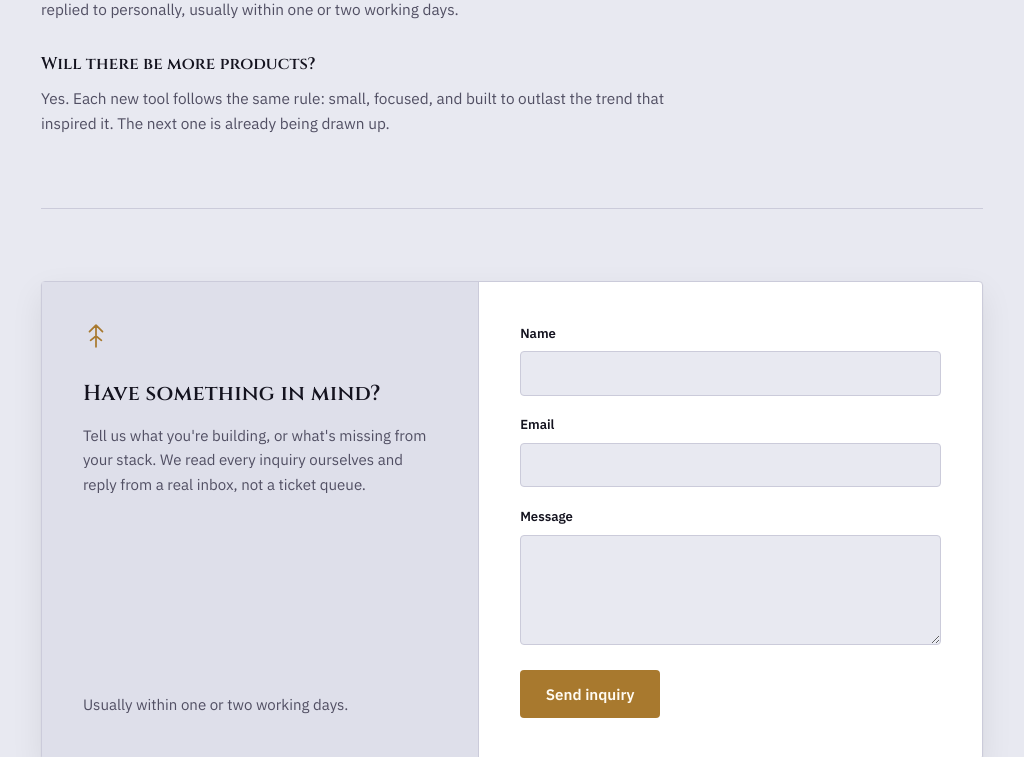
Test: pages/index › shows an error message when the inquiry endpoint fails
(page scrolled)
Step 1. Type "Jane Doe" into the field with id "name" → (731, 374), box [520, 351, 941, 396]
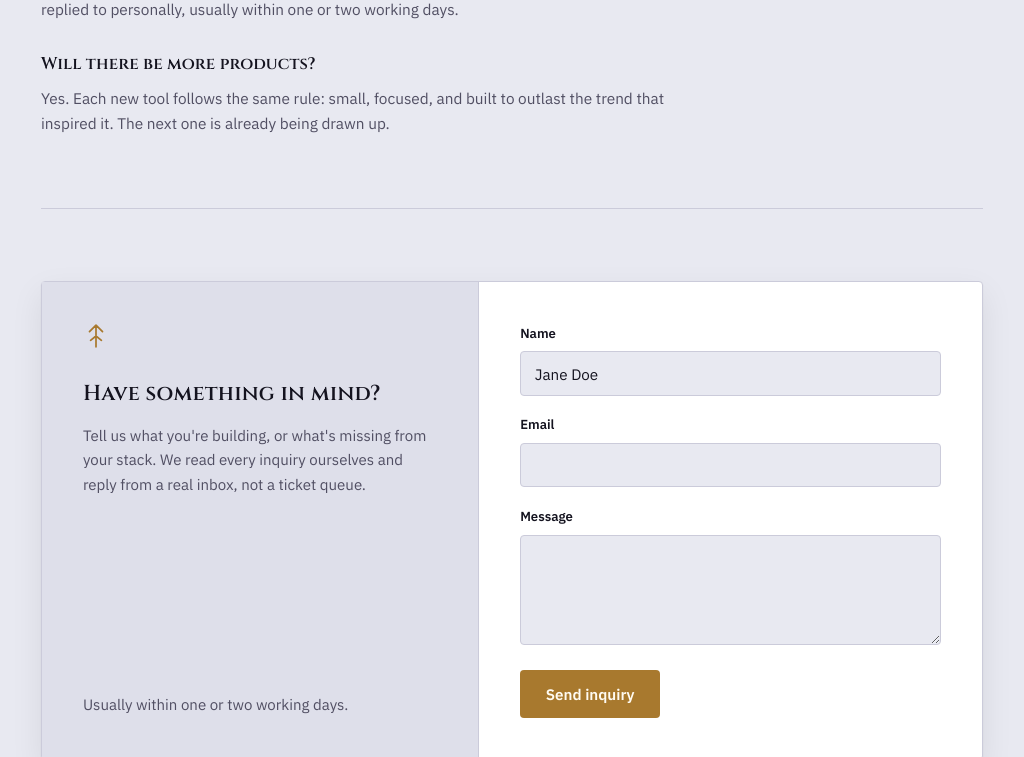
Step 2. Type "jane@example.com" into the field with id "email" → (731, 465), box [520, 443, 941, 487]
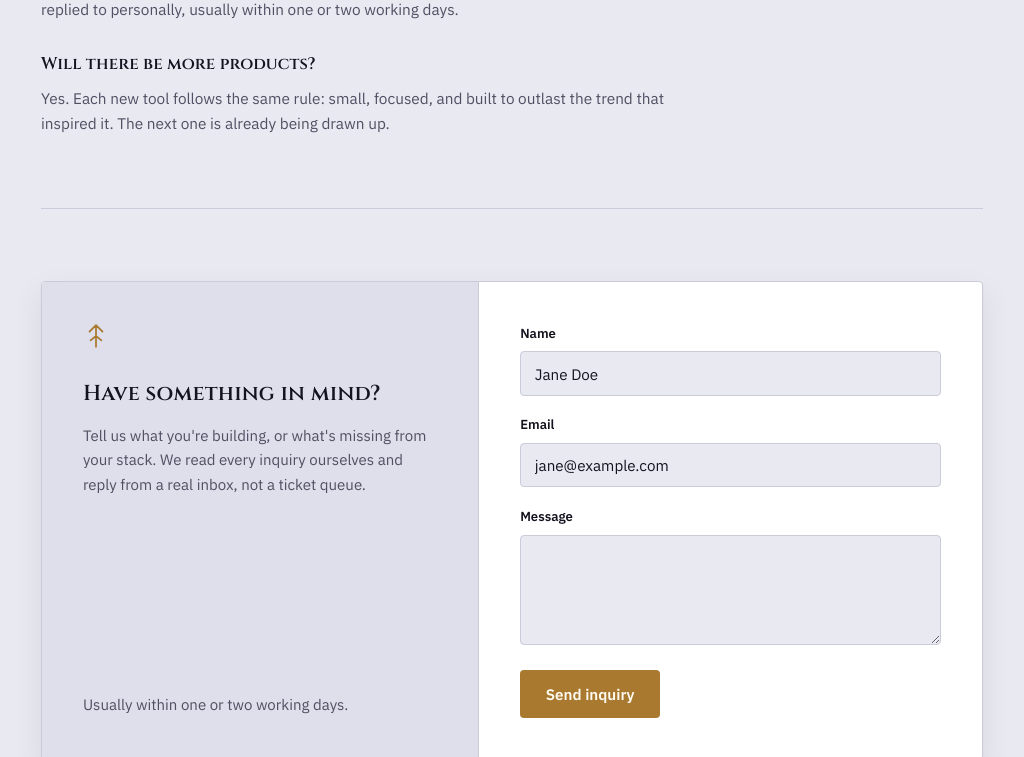
Step 3. Type "Hello there" into the text box with id "message" → (731, 590), box [520, 535, 941, 645]
(page scrolled)
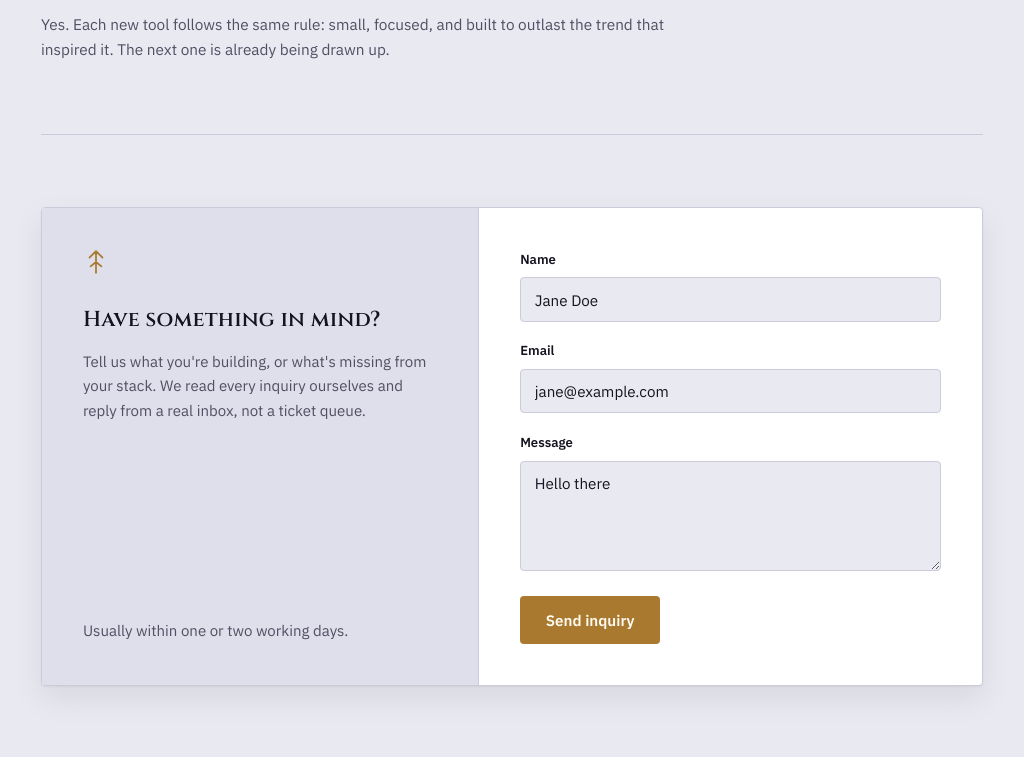
Step 4. Submit the form, box [520, 251, 946, 644]
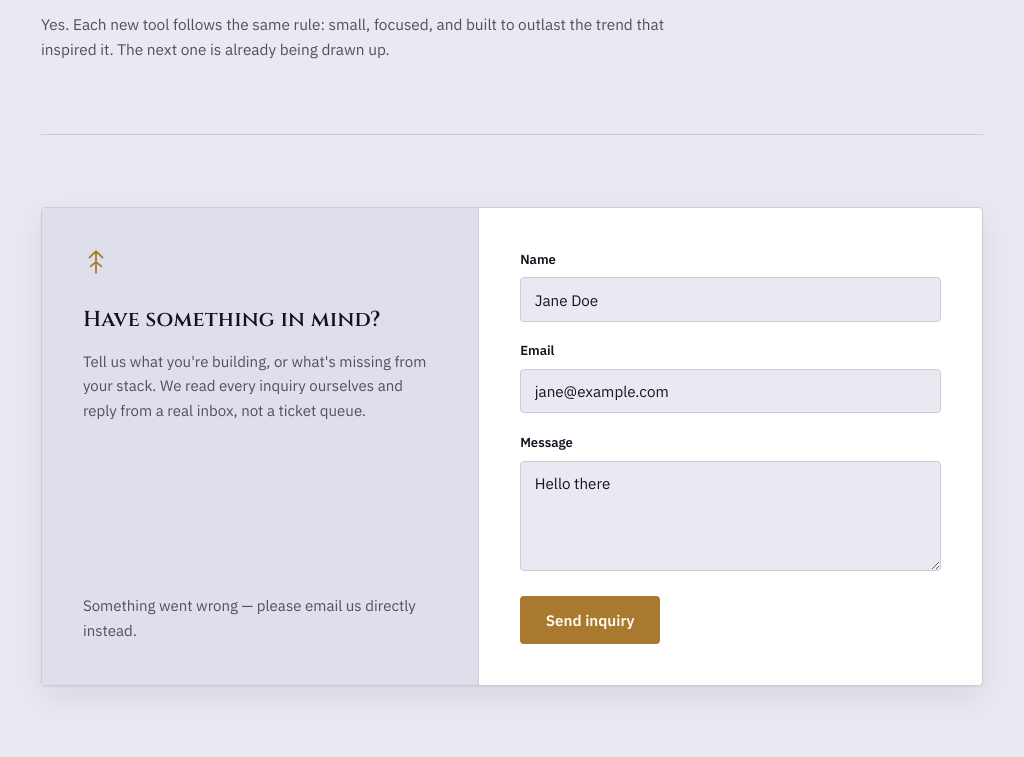
Check: the text with class "form-note" shows "Something went wrong", box [83, 596, 416, 640]
